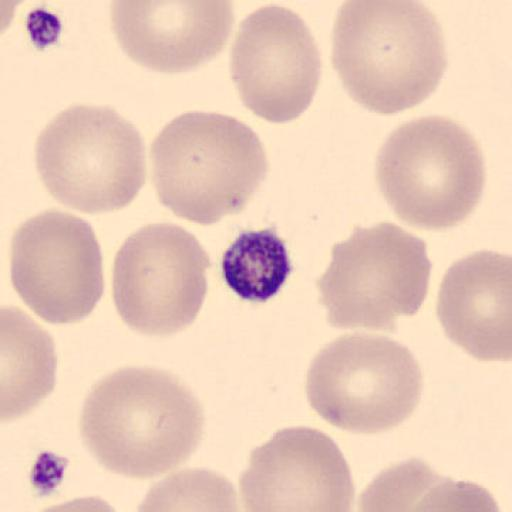Platelet: (218, 222, 296, 306)
RBC: (79, 362, 207, 481), (148, 108, 270, 228), (328, 0, 450, 117), (374, 114, 488, 232), (34, 101, 148, 216), (304, 330, 426, 436), (318, 220, 434, 326), (111, 220, 212, 339), (228, 2, 324, 126), (9, 207, 105, 325), (237, 424, 355, 512), (108, 0, 236, 76), (435, 247, 512, 364), (355, 462, 503, 512), (2, 305, 58, 424), (354, 455, 451, 512), (134, 465, 240, 512), (406, 476, 504, 512), (18, 492, 136, 512), (0, 0, 27, 42)
